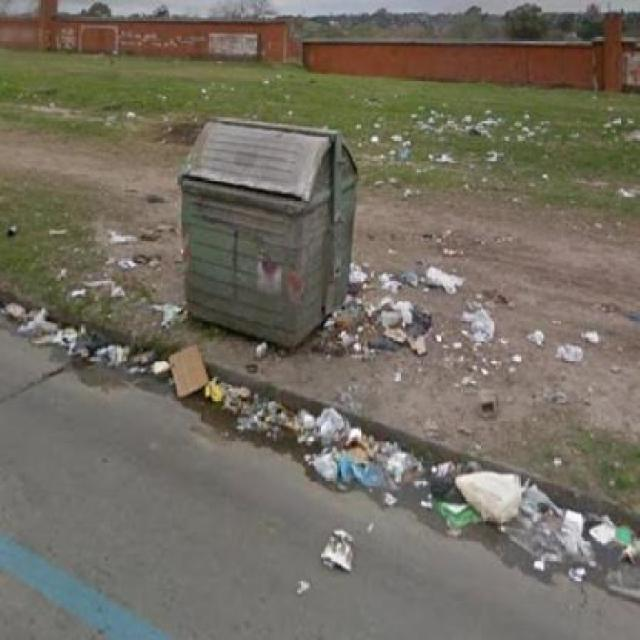garbage: (10, 300, 206, 390), (246, 400, 424, 494), (462, 465, 609, 576), (314, 295, 459, 360), (406, 105, 516, 154), (106, 208, 164, 292), (528, 325, 614, 374), (466, 302, 516, 386), (317, 515, 356, 580), (411, 254, 475, 292)
